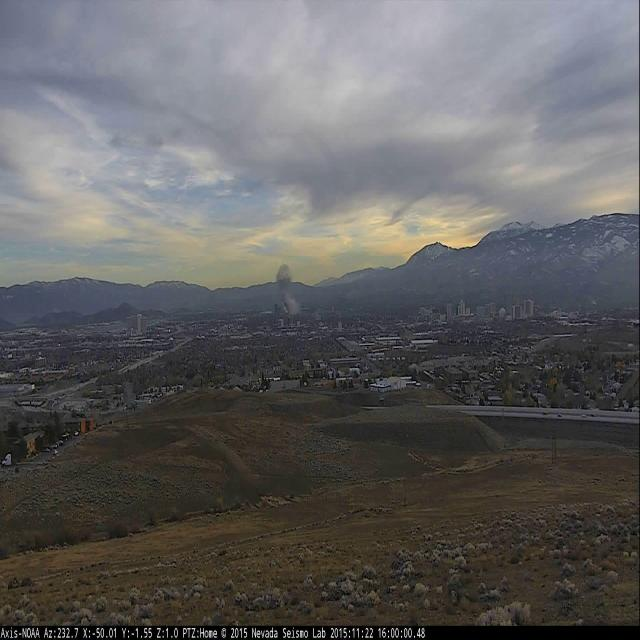smoke: (274, 254, 306, 318)
